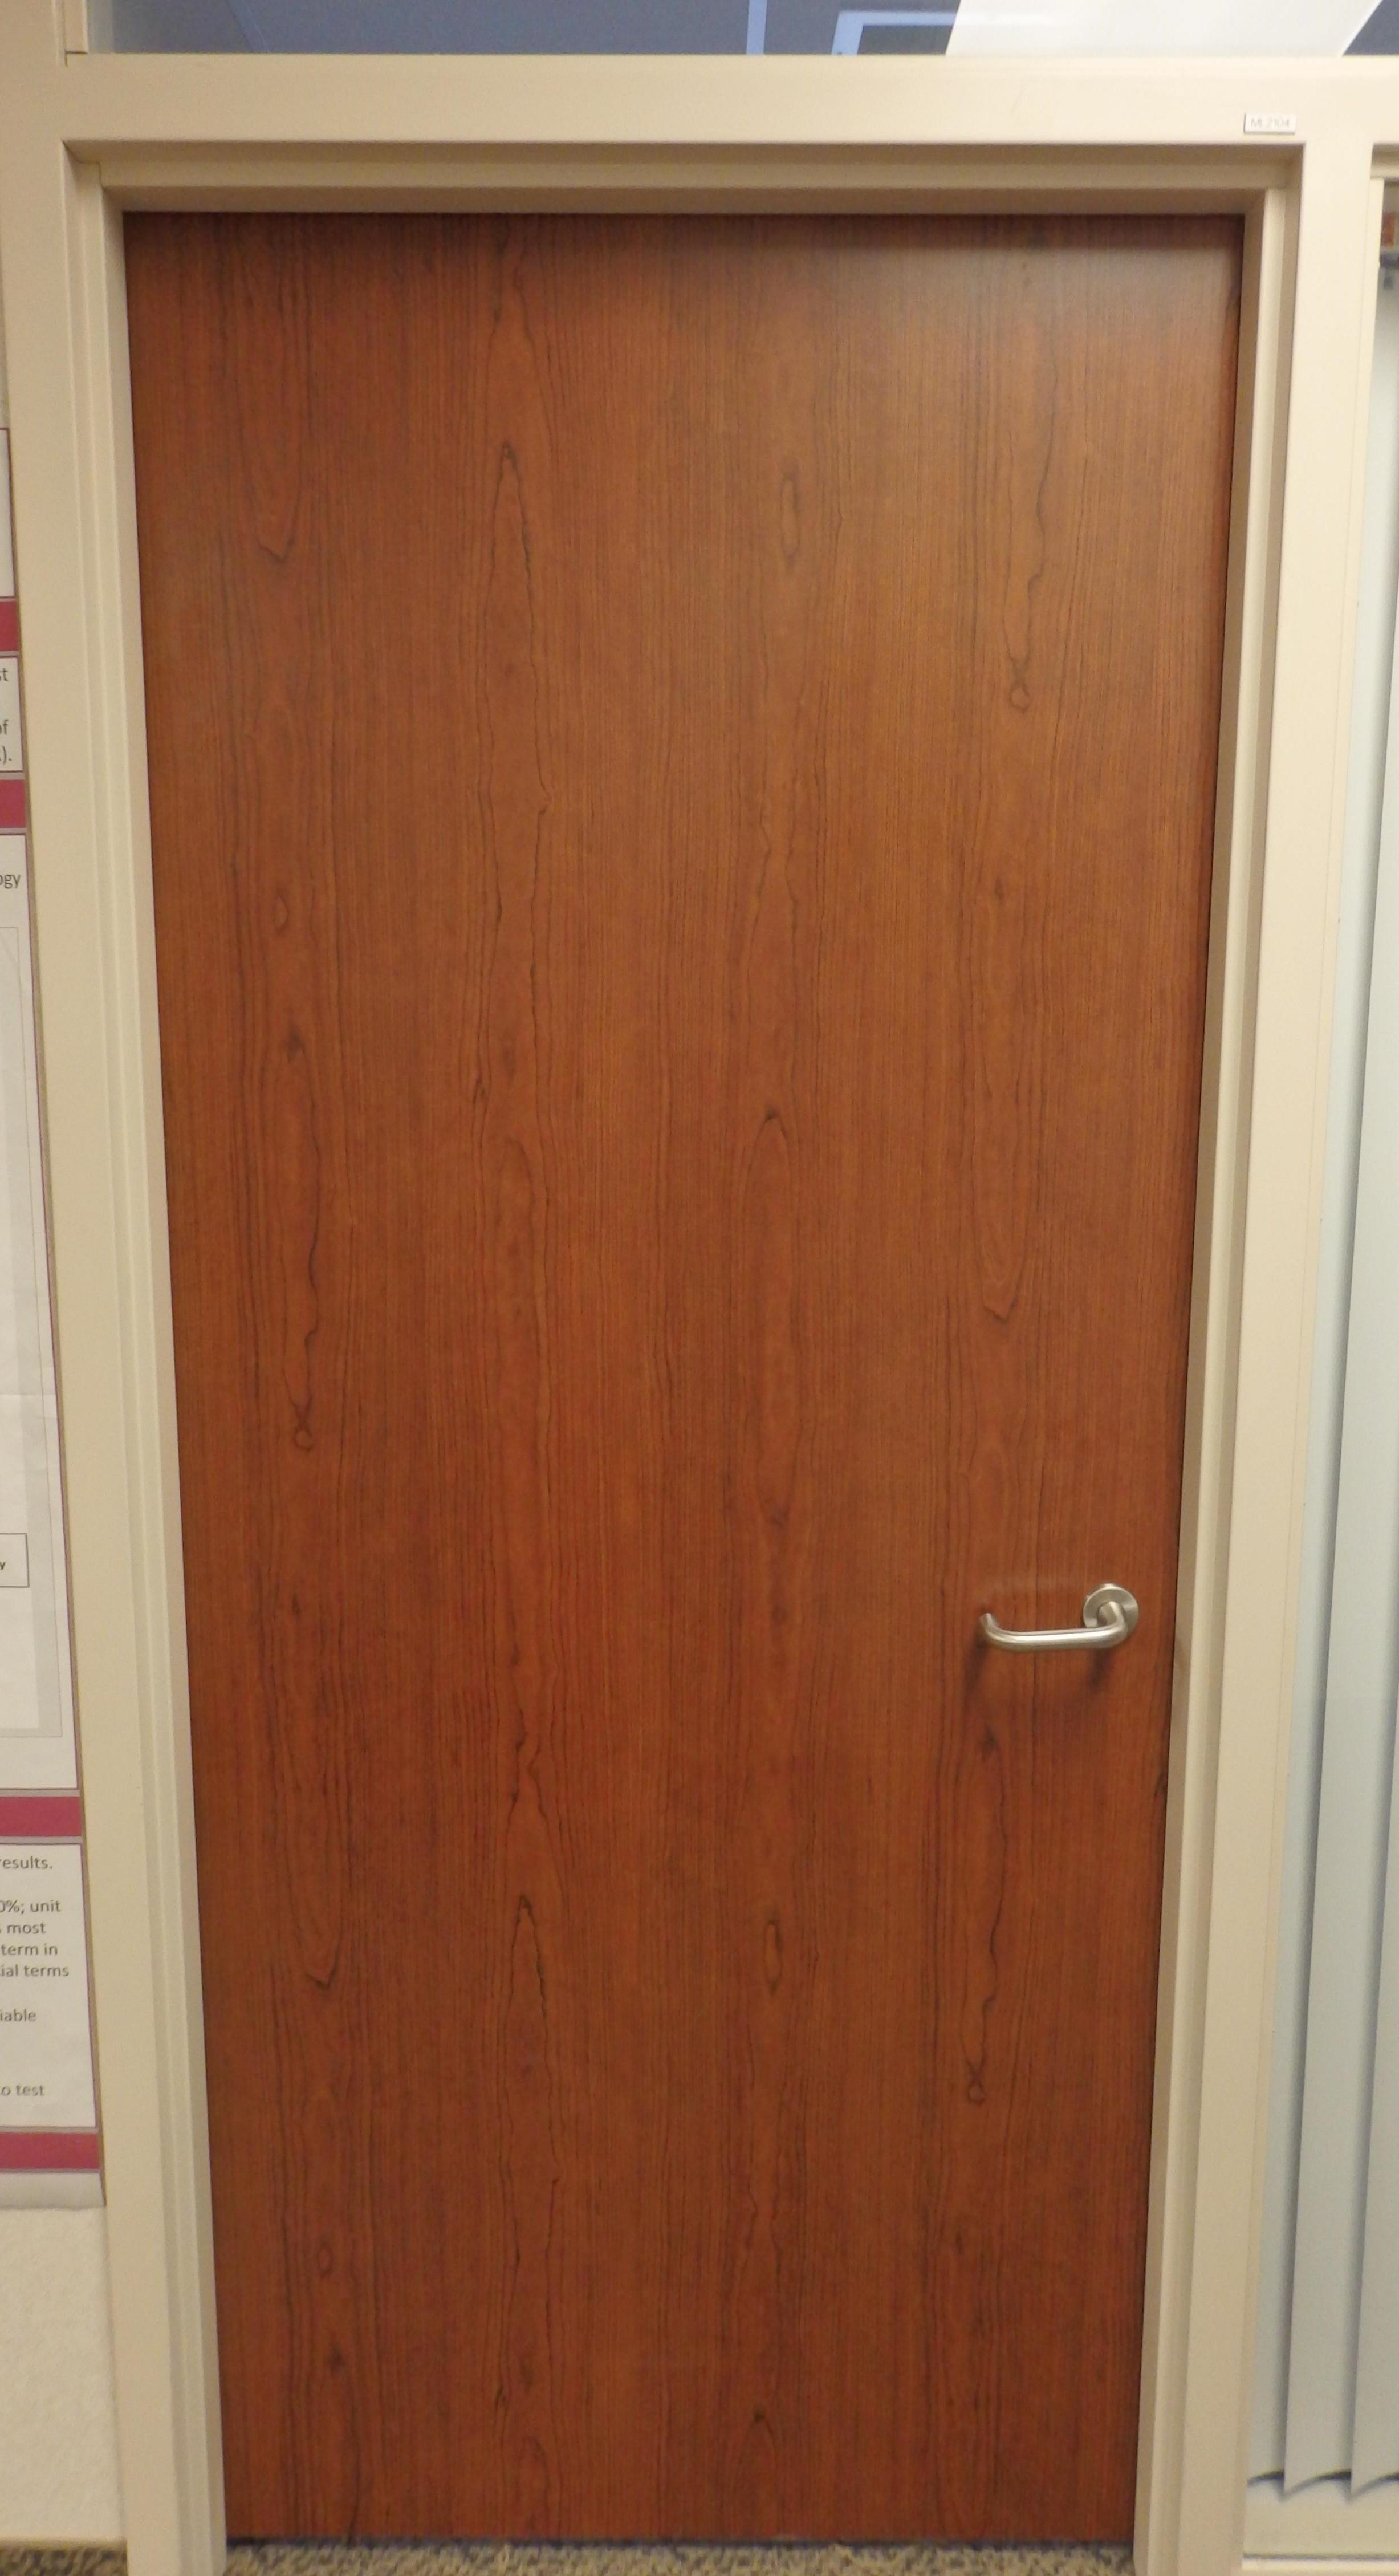door: (47, 117, 1275, 2574)
